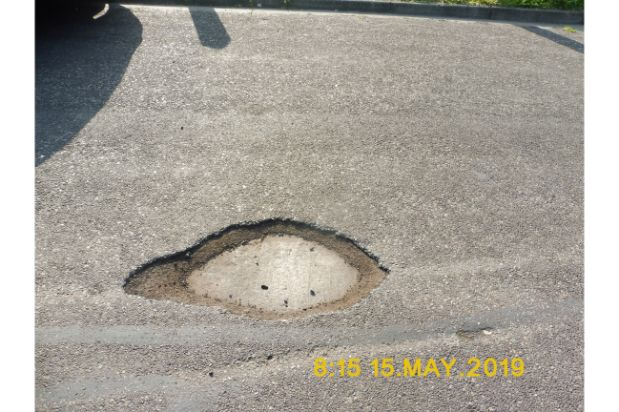pothole: (120, 214, 393, 317)
